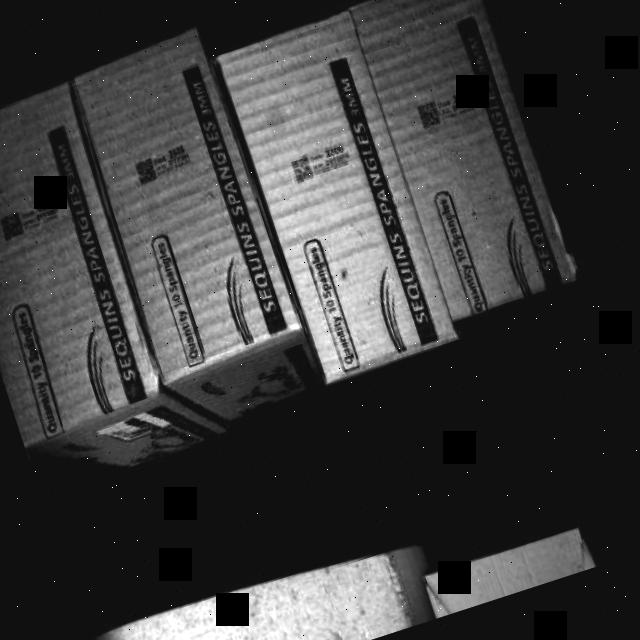box: (219, 11, 458, 383), (74, 38, 299, 370), (350, 0, 579, 318), (0, 86, 165, 445)
